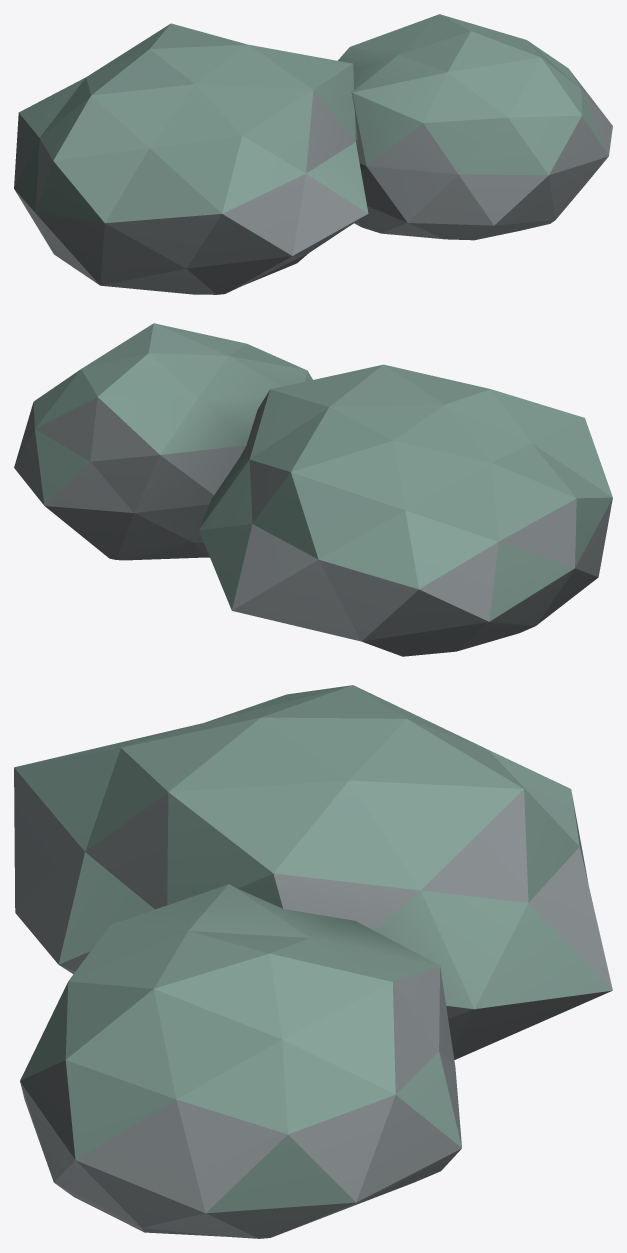
The model's file is rock_mossy_b_low.glb.
3 renders of one model, top to bottom at view 1: azimuth 30°, elevation 25°; view 2: azimuth 150°, elevation 25°; view 3: azimuth 270°, elevation 25°, orthographic. The views are drawn at different scales.
Size of the model in its own units: 3.17 by 0.9359 by 1.97.
